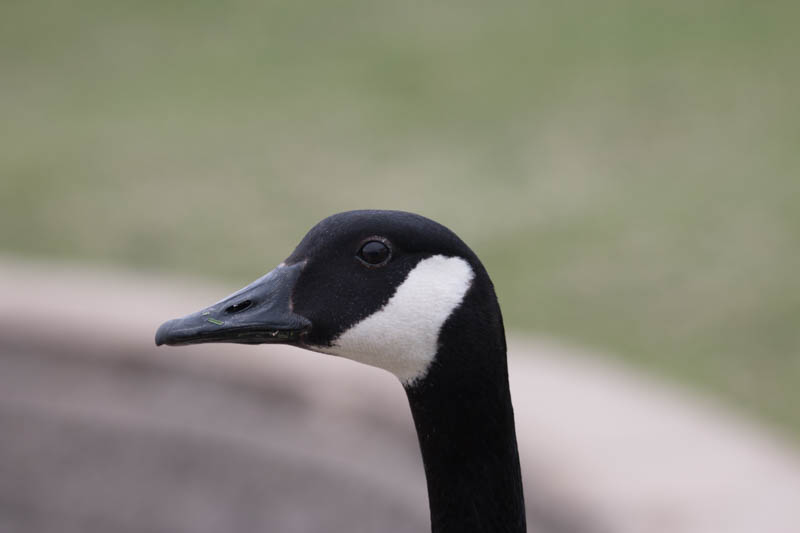goose-head: (154, 207, 506, 389)
